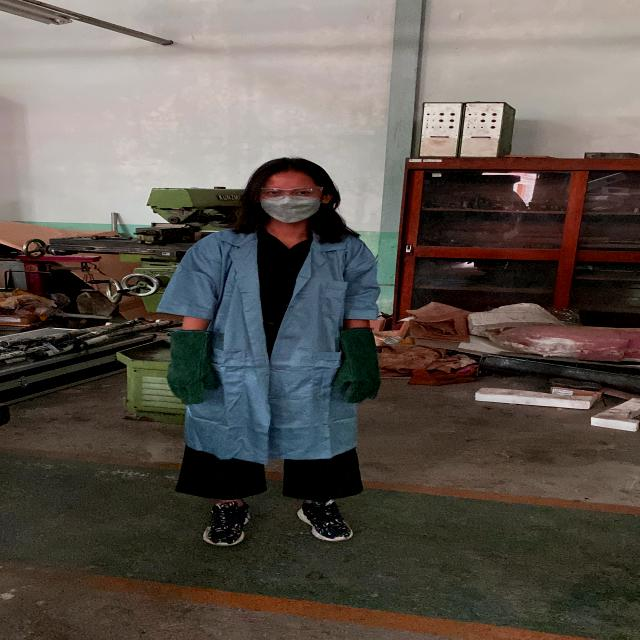face_mask: (253, 182, 323, 225)
glasses: (248, 182, 326, 200)
hand_glove: (158, 355, 228, 409), (324, 361, 388, 406)
head_nohelmet: (242, 155, 333, 184)
person: (142, 152, 422, 554)
shoes: (286, 498, 361, 546), (197, 496, 260, 548)
